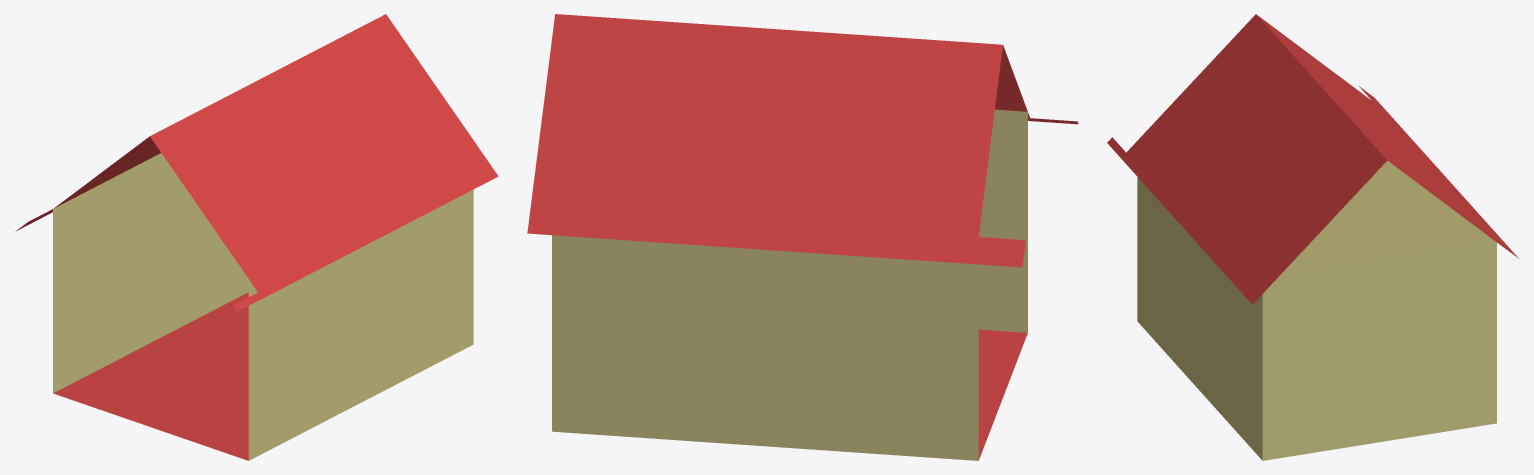
The picture shows the model from 3 angles, left to right: view 1: azimuth 30°, elevation 25°; view 2: azimuth 150°, elevation 25°; view 3: azimuth 270°, elevation 25°; orthographic projection. The views are drawn at different scales.
Size of the model in its own units: 20.6 by 17.54 by 13.52.
